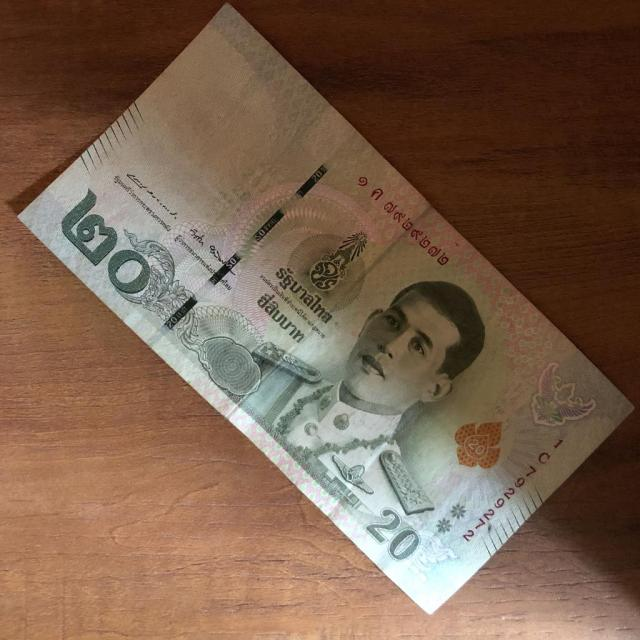THAI20: (19, 4, 632, 612)
